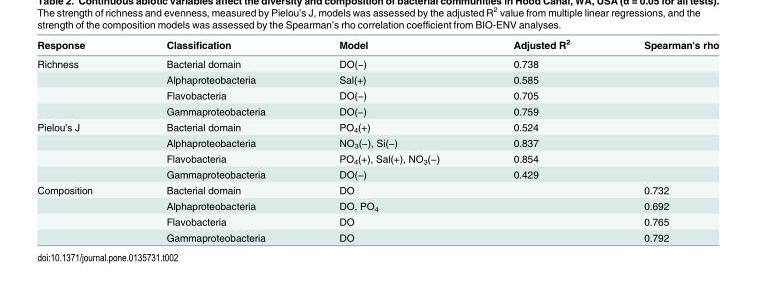table: (36, 37, 718, 242)
table column: (301, 37, 475, 242), (128, 37, 301, 242), (475, 37, 606, 242), (606, 37, 718, 242), (36, 37, 128, 242)
table column header: (36, 37, 718, 53)
table row: (36, 53, 718, 71), (36, 37, 718, 53), (36, 71, 718, 87), (36, 102, 718, 118), (36, 118, 718, 134), (36, 134, 718, 150), (36, 150, 718, 166), (36, 181, 718, 197), (36, 197, 718, 213), (36, 213, 718, 229), (36, 87, 718, 102), (36, 166, 718, 181), (36, 229, 718, 242)
table spanning cell: (36, 53, 128, 118), (36, 118, 128, 181), (36, 181, 128, 242)
